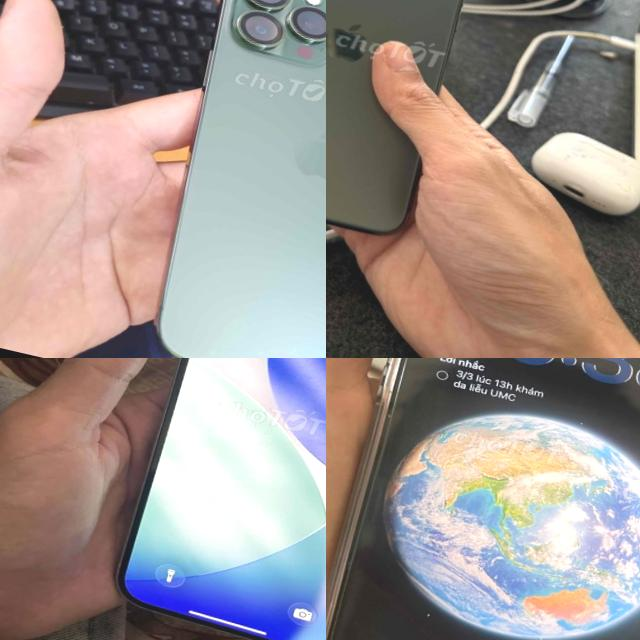gen_11: (326, 0, 462, 232)
gen_12_13: (326, 358, 640, 640), (138, 0, 326, 358)
gen_15: (74, 358, 326, 640)
